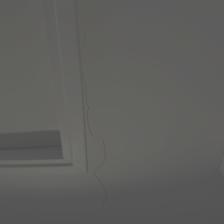Medium: (82, 94, 129, 221)
